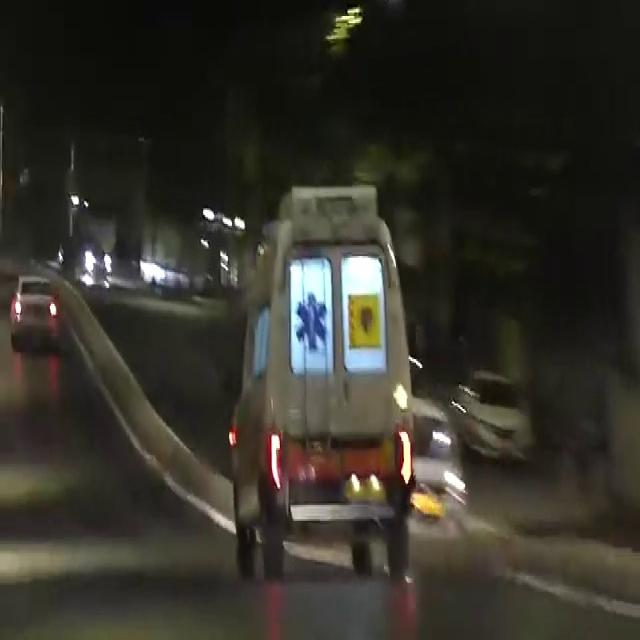ambulance: (242, 157, 426, 556)
